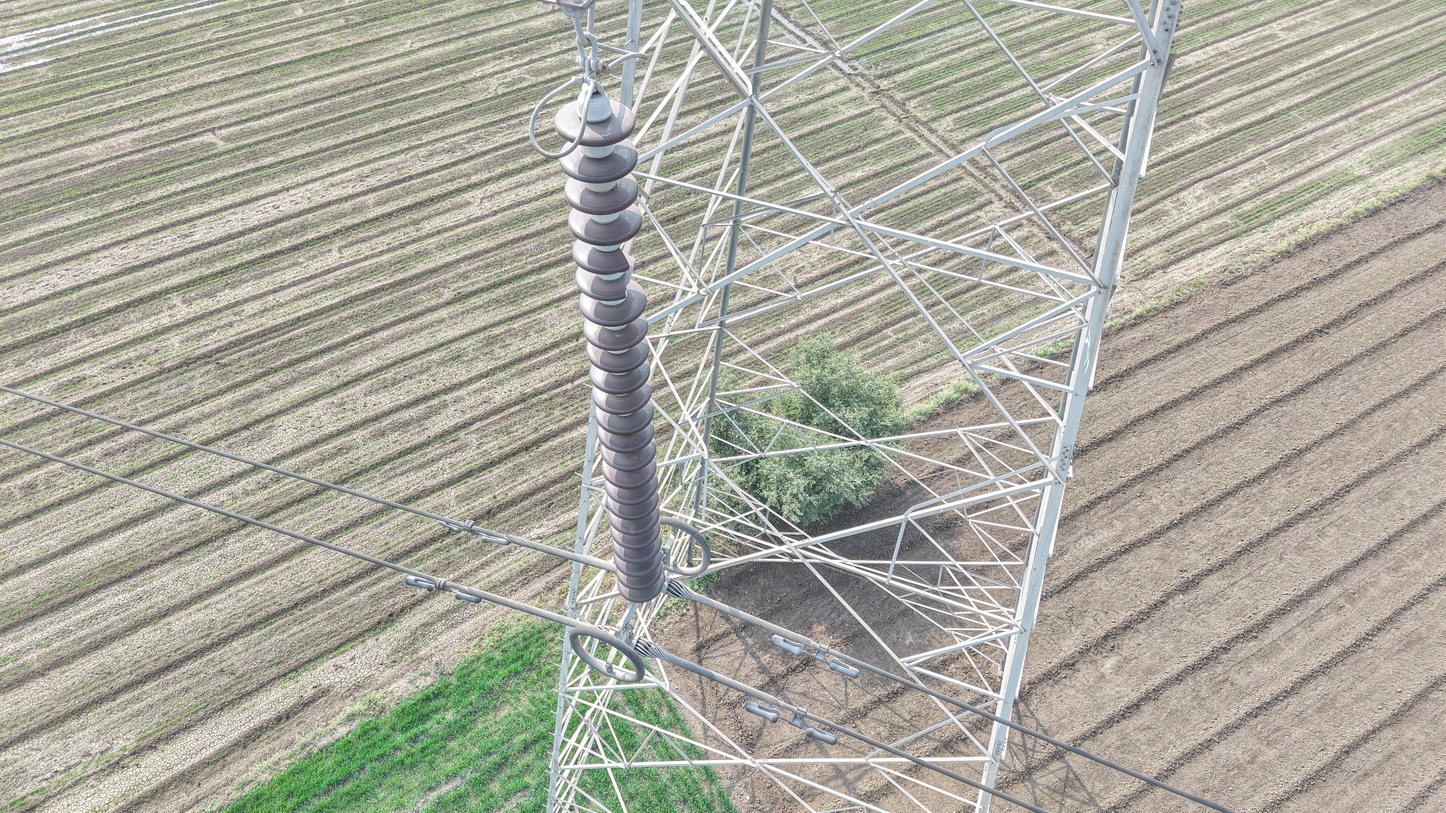broken_insulator: (567, 251, 641, 301), (571, 240, 644, 274)
